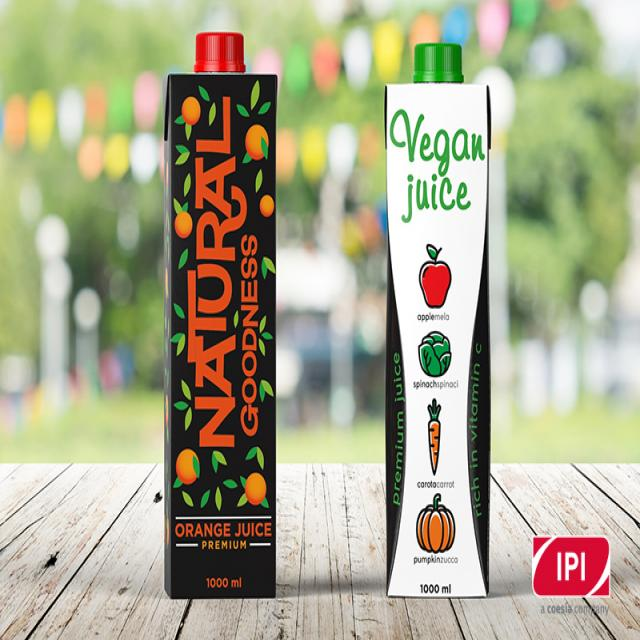non_white_jug: (146, 16, 291, 596), (369, 36, 506, 604)
